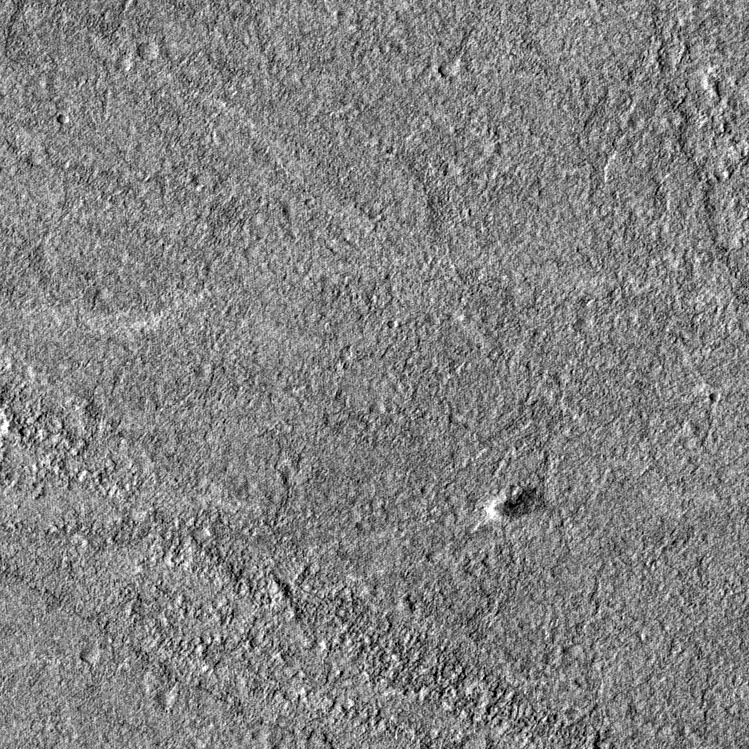dust_devil: (482, 483, 549, 524)
